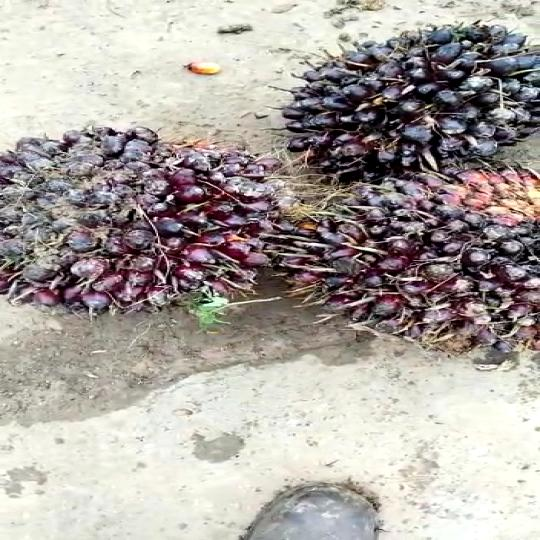kurang masak: (0, 127, 295, 323), (272, 165, 540, 356), (286, 29, 540, 172)
